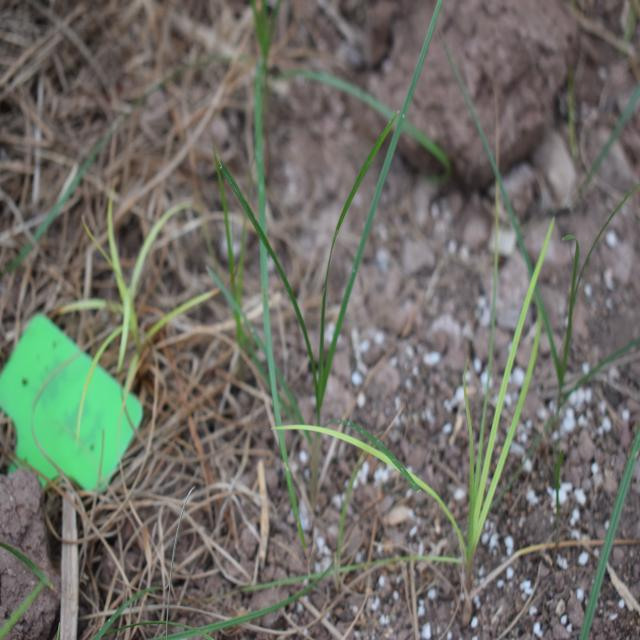sedge: (205, 0, 427, 544)
